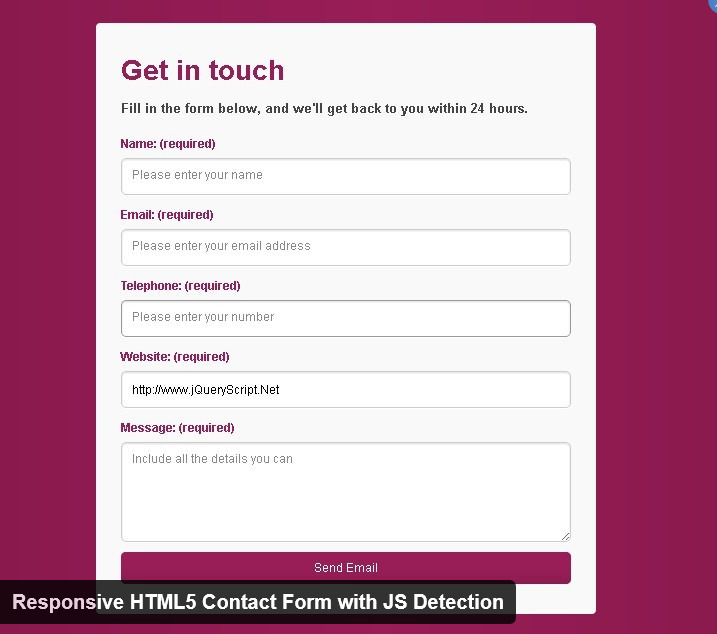_form_: (106, 128, 583, 562), (115, 200, 581, 590)
button: (118, 551, 572, 586)
field: (119, 440, 572, 545), (118, 298, 572, 339), (117, 369, 573, 409), (120, 156, 573, 196), (119, 227, 572, 267)
field_with_label: (116, 421, 574, 548), (116, 350, 576, 412), (116, 280, 573, 341), (118, 209, 574, 269), (118, 137, 573, 197)
